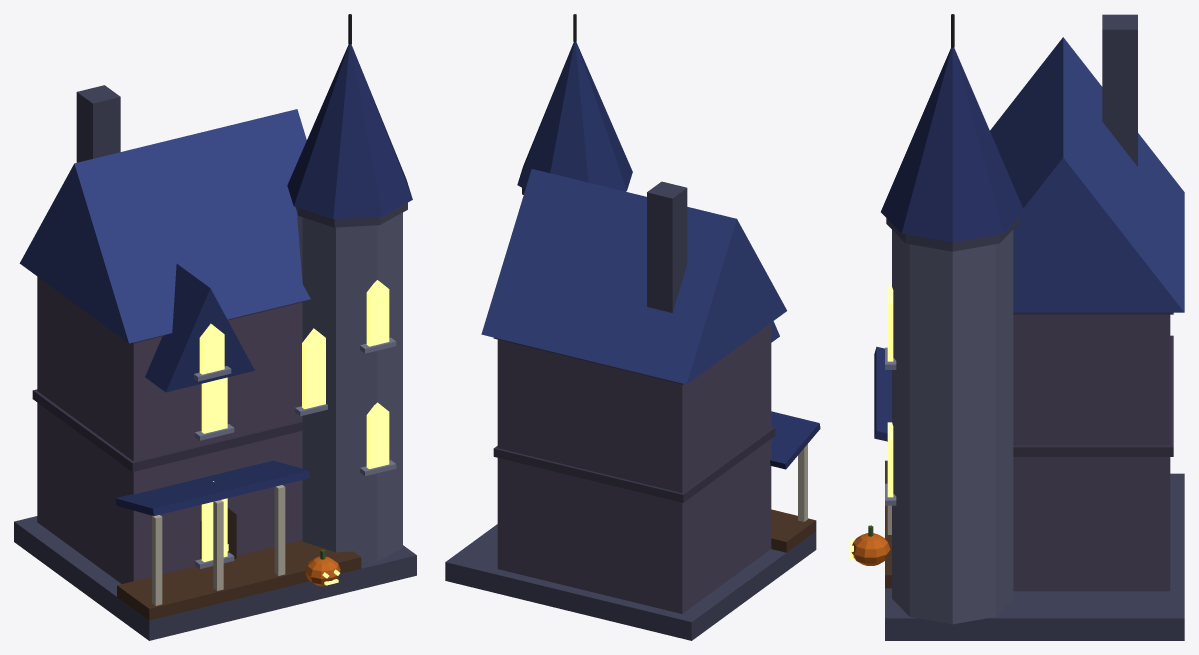
File: ec2-victorian-house.glb
3 renders of one model, left to right at view 1: azimuth 30°, elevation 25°; view 2: azimuth 150°, elevation 25°; view 3: azimuth 270°, elevation 25°, orthographic. The views are drawn at different scales.
Parts seen in each view (by area): view 1: cw_paint, cw_glow; view 2: cw_paint; view 3: cw_paint, cw_glow.
Part boxes in pixels (x1,y1,x2,y2): cw_paint: [14, 14, 416, 640]; cw_glow: [199, 280, 389, 585]; cw_paint: [445, 14, 820, 640]; cw_paint: [851, 14, 1184, 640]; cw_glow: [849, 286, 893, 559].
Bounding box in the file's own units: 5.16 × 9.38 × 4.7.
